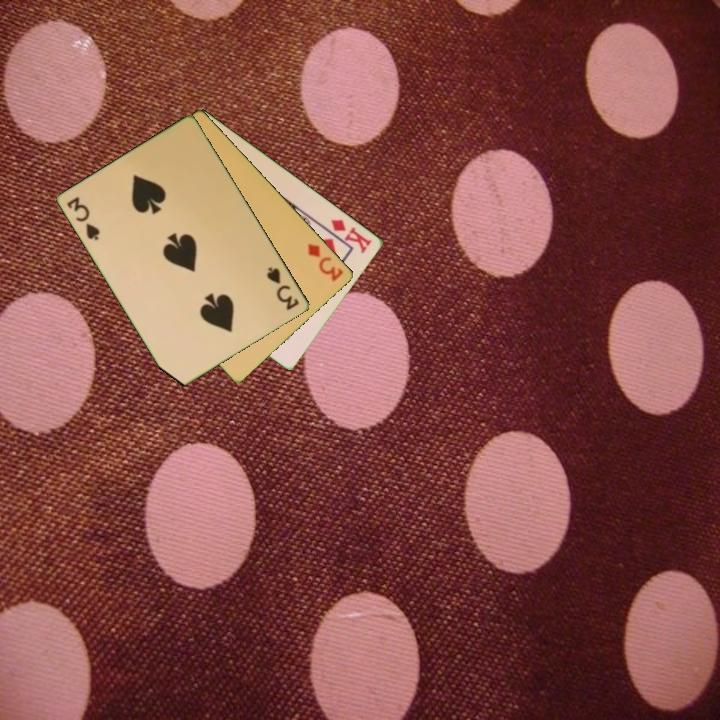3d: (304, 240, 347, 284)
3s: (263, 263, 302, 313), (64, 193, 103, 243)
Kd: (328, 215, 375, 256)
